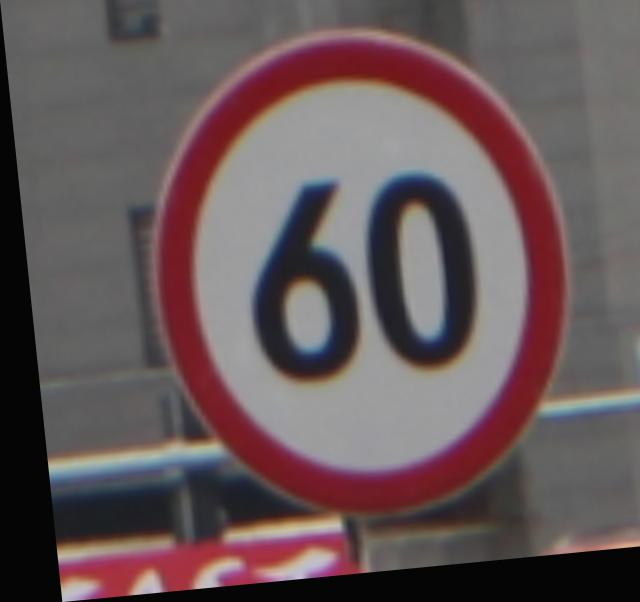limit60: (119, 15, 585, 547)
